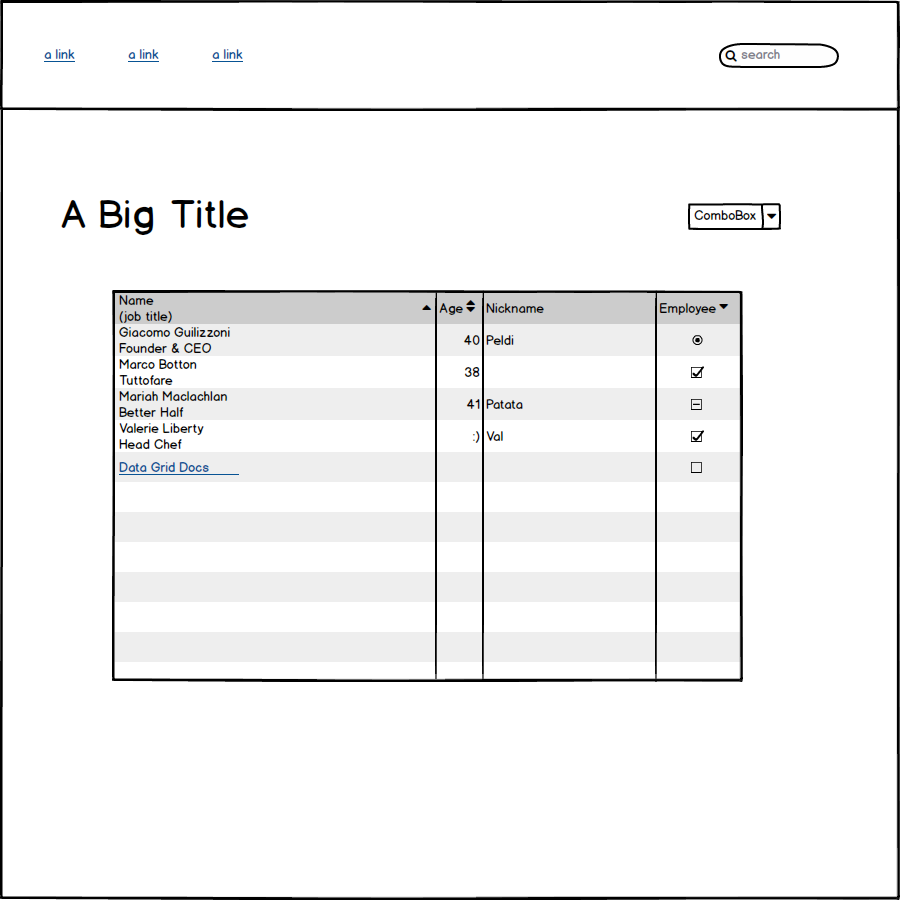h1: (44, 188, 255, 248)
navlink: (118, 36, 171, 73), (209, 38, 250, 71), (39, 43, 79, 67)
search: (709, 36, 852, 73)
select_box: (685, 195, 792, 240)
table: (104, 281, 749, 691)
